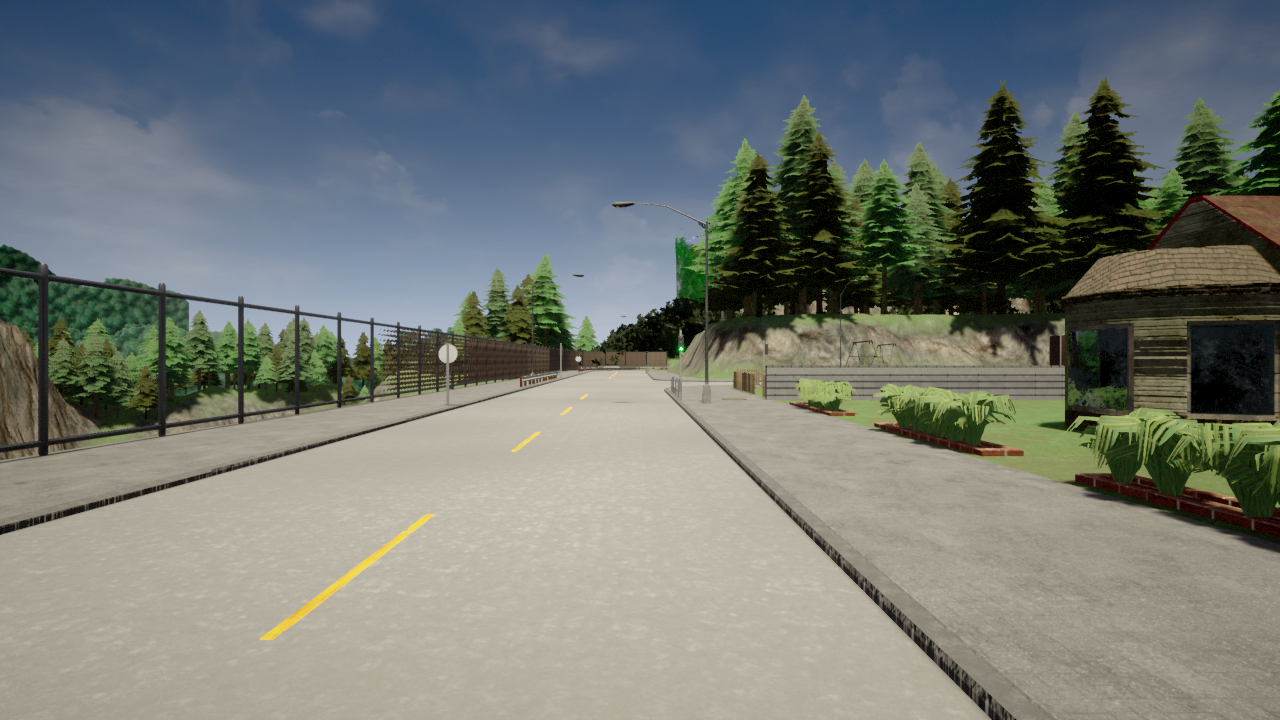green: (679, 336, 684, 352)
